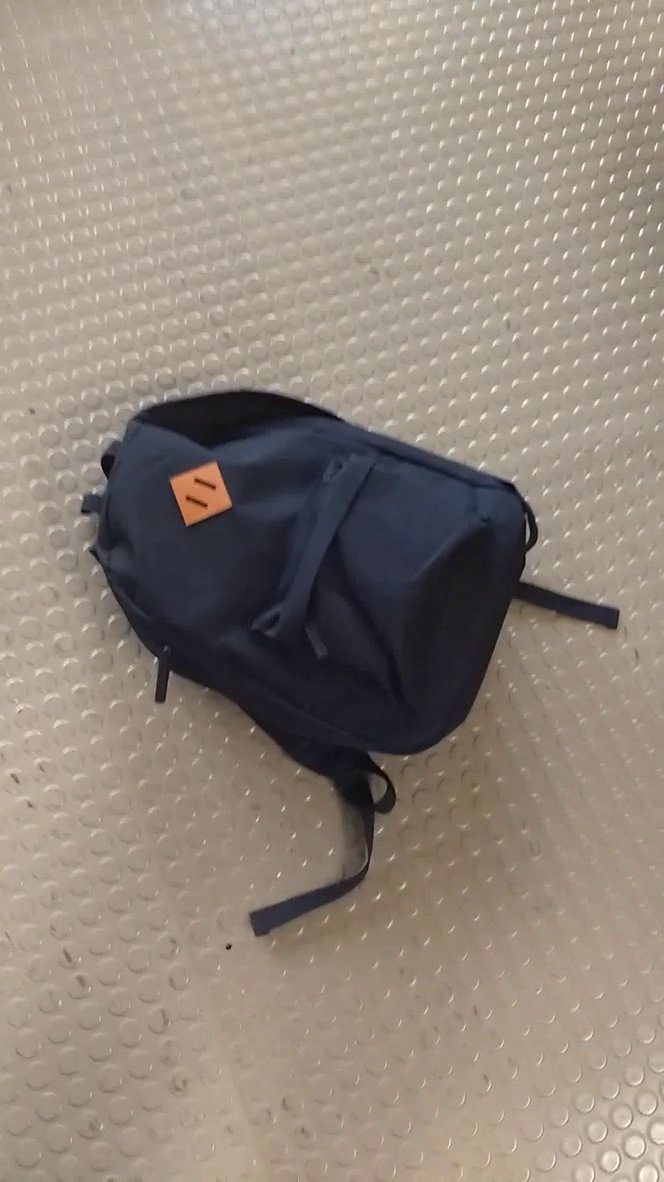bag: (62, 378, 625, 945)
